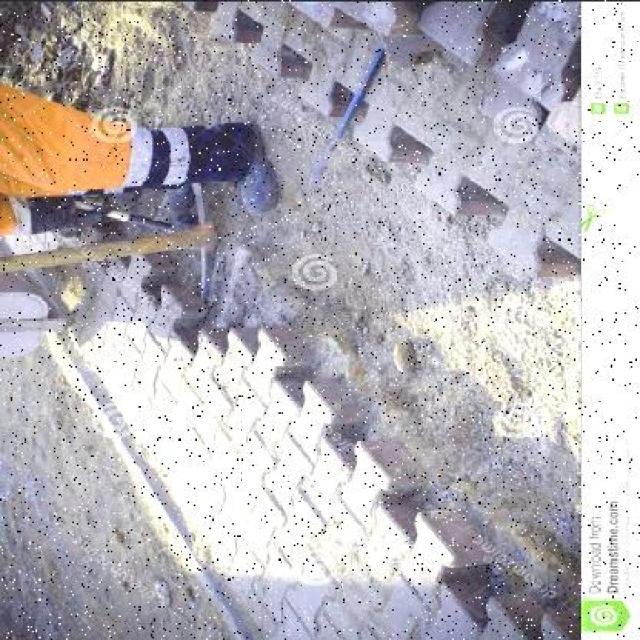shoes: (227, 125, 270, 210), (158, 160, 197, 214)
